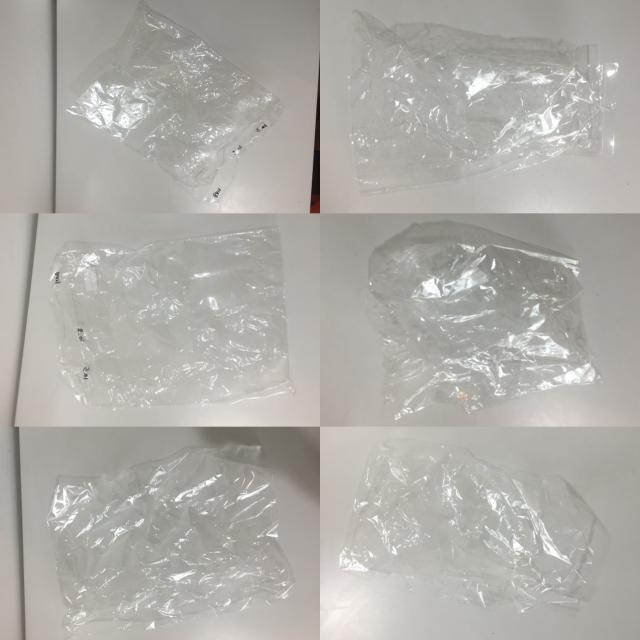Single-layer Plastic: (352, 10, 617, 193), (339, 439, 605, 612), (369, 221, 600, 419), (48, 445, 294, 629), (50, 226, 294, 408), (68, 0, 284, 202)
